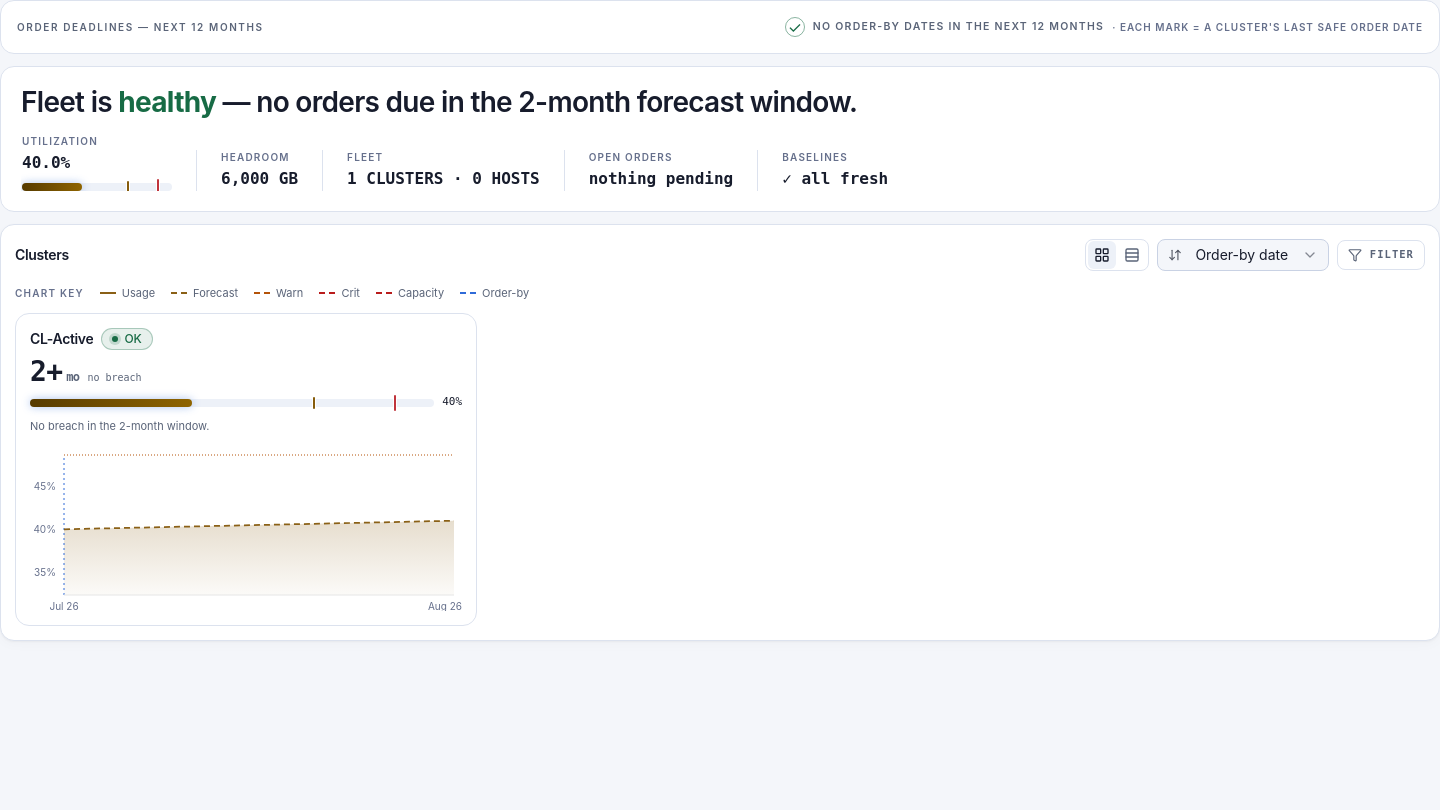
<FleetConsole> (render) › Filter popover carries the live archived count, an active-count badge, and announces the mixed view (#243)
Check: the text "CL-Active" is shown, box left=30, top=329, right=93, bottom=349
Click the button with test id "fleet-filter-button" at (1381, 255), box left=1337, top=240, right=1425, bottom=270
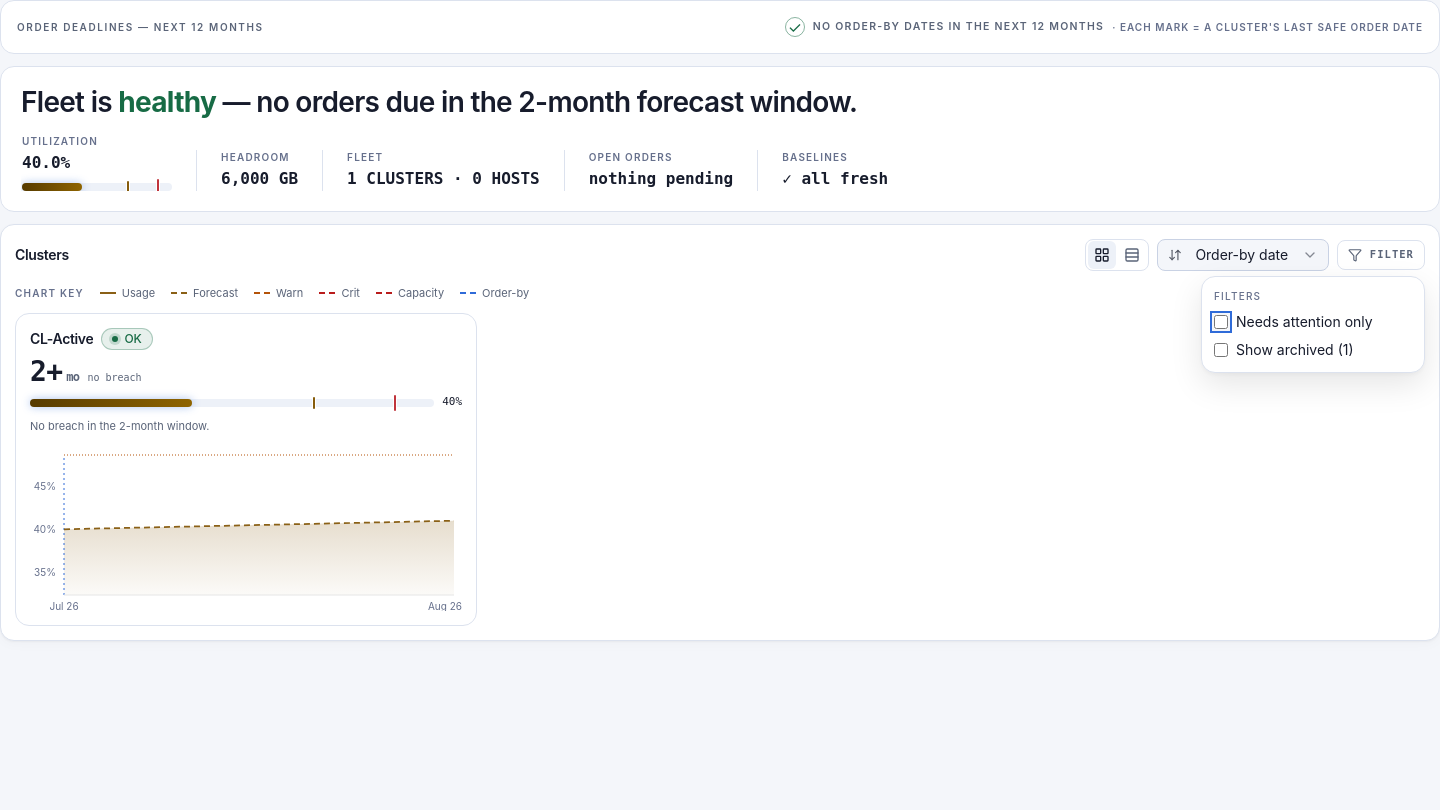
Check: the checkbox labelled "Show archived (1)" is not checked
Click the checkbox labelled "Show archived (1)" at (1221, 350), box left=1214, top=343, right=1228, bottom=357
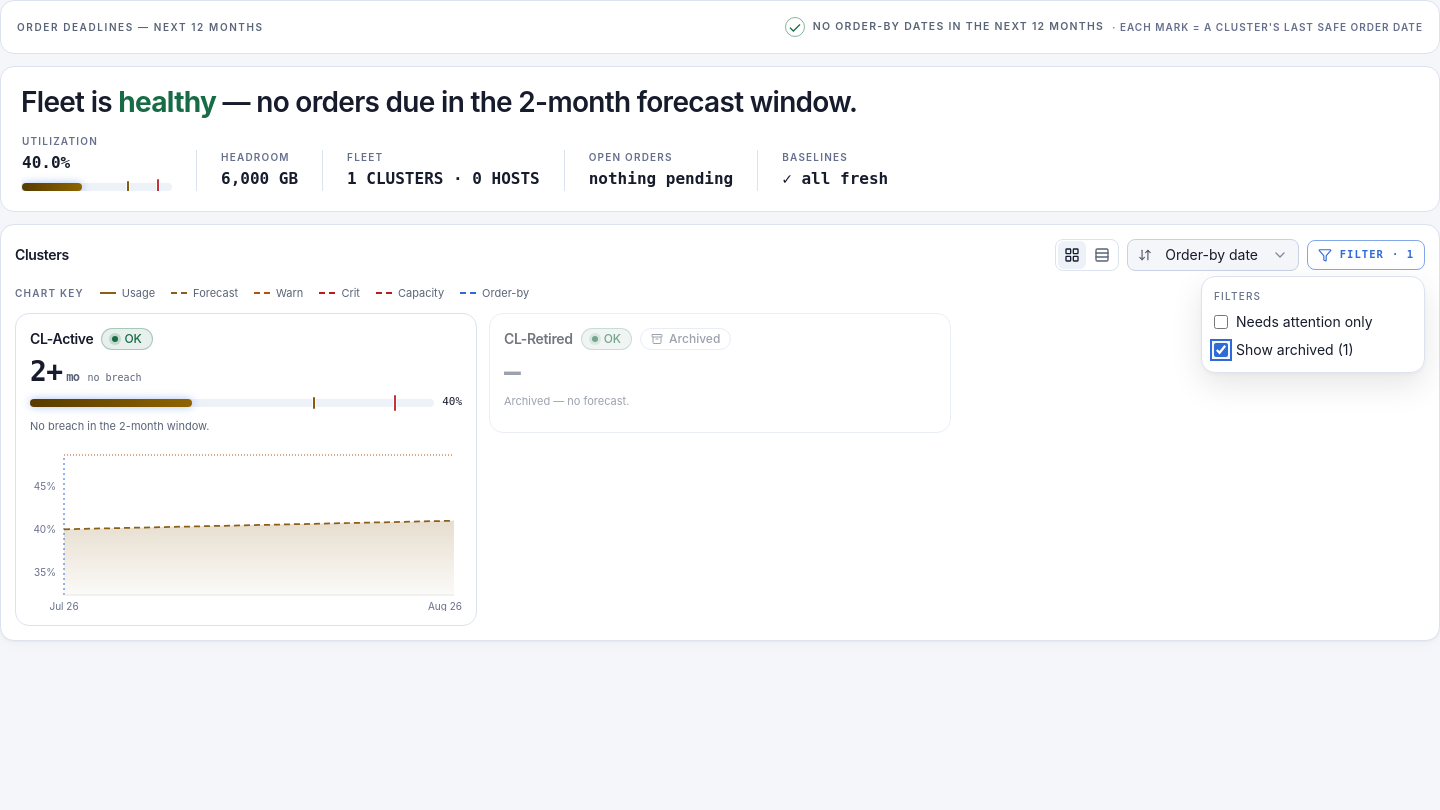
Check: the checkbox labelled "Show archived (1)" is checked
Check: the text with test id "fleet-filter-count" reads "· 1", box left=1392, top=247, right=1414, bottom=263
Click the checkbox labelled "Show archived (1)" at (1221, 350), box left=1214, top=343, right=1228, bottom=357
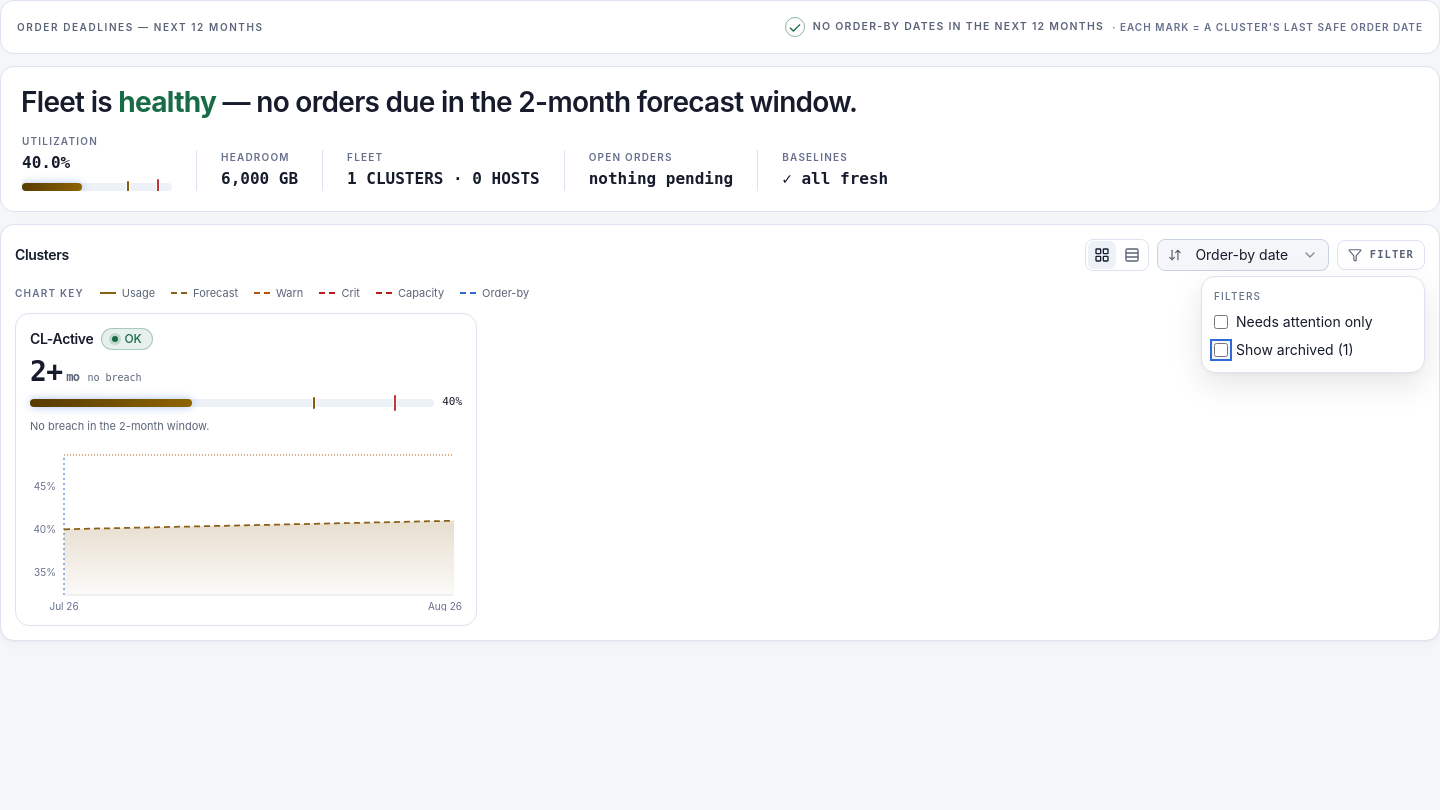
Check: the text with test id "fleet-filter-count" is gone
